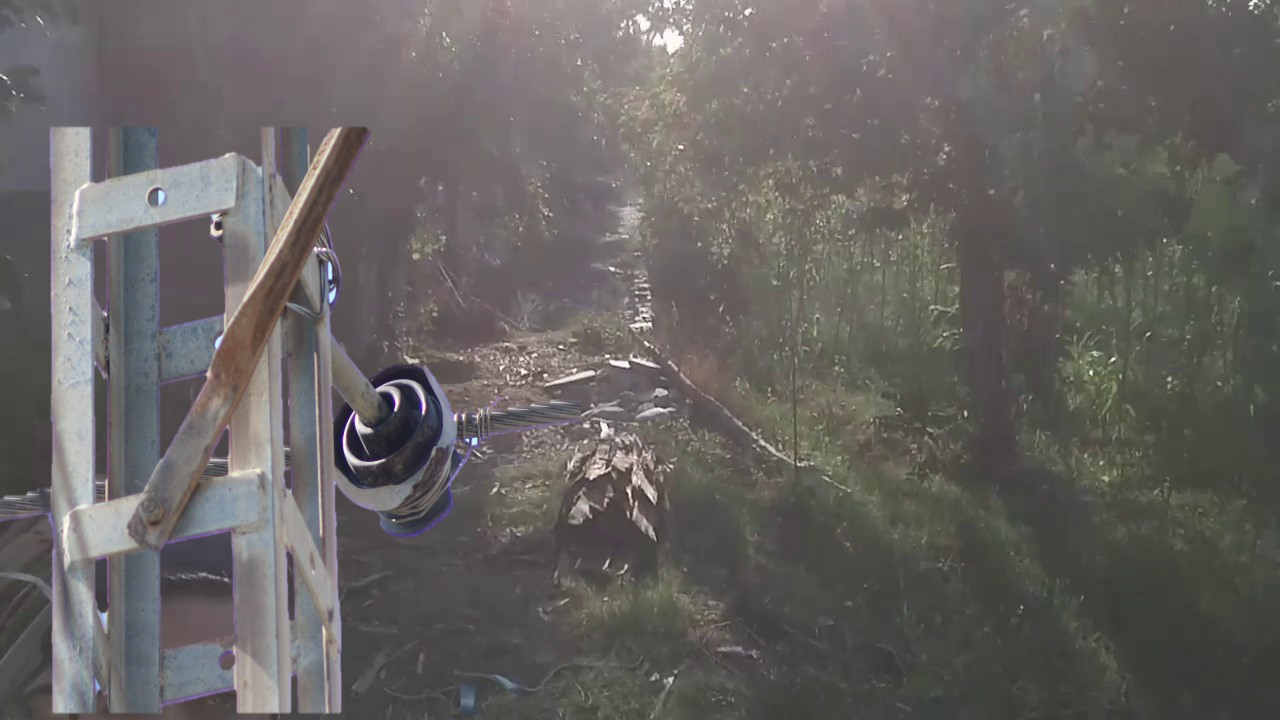defect_pin: (328, 355, 474, 545)
